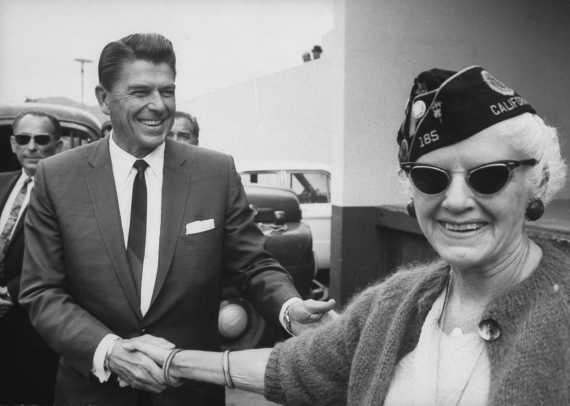bad: (402, 152, 509, 259), (113, 63, 187, 138), (12, 127, 55, 170)
